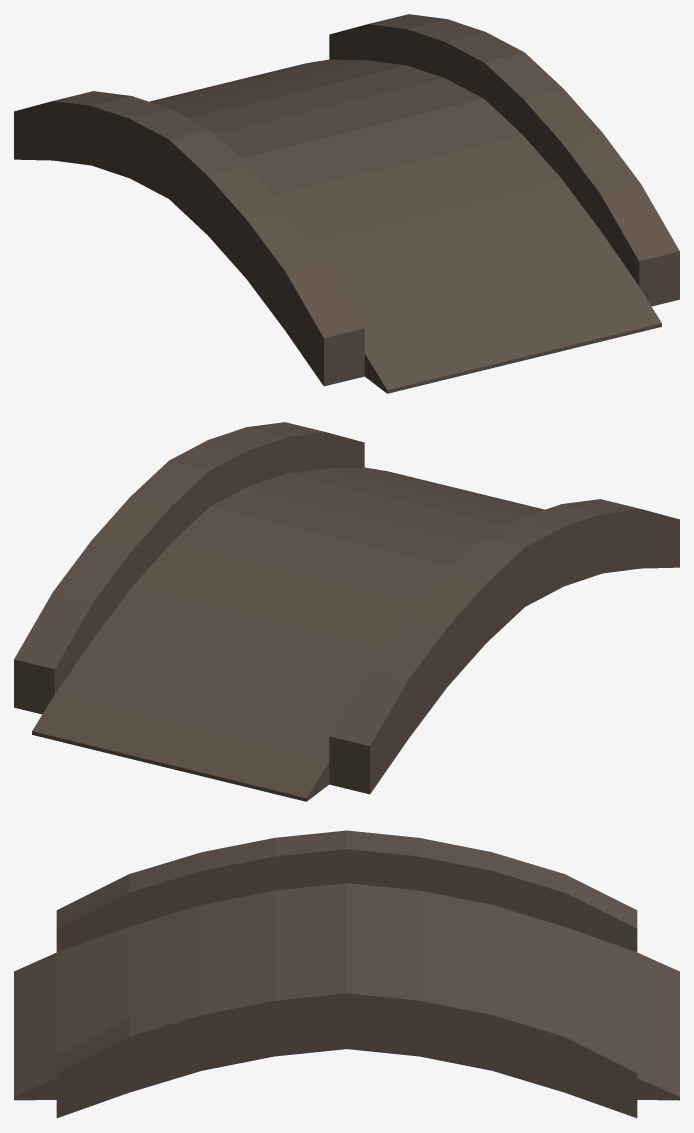
The model's file is Wide_Bridge.fbx.
3 views of the same model, one above another, from view 1: azimuth 30°, elevation 25°; view 2: azimuth 150°, elevation 25°; view 3: azimuth 270°, elevation 25° (orthographic). The views are drawn at different scales.
Visible parts, largest first — view 1: Cube; view 2: Cube; view 3: Cube.
Boxes of the visible parts, x1,y1,x2,y2 form: Cube: (14, 14, 679, 393); Cube: (14, 422, 679, 801); Cube: (14, 830, 679, 1118).
Bounding box in the file's own units: 1101 × 397 × 1902.
